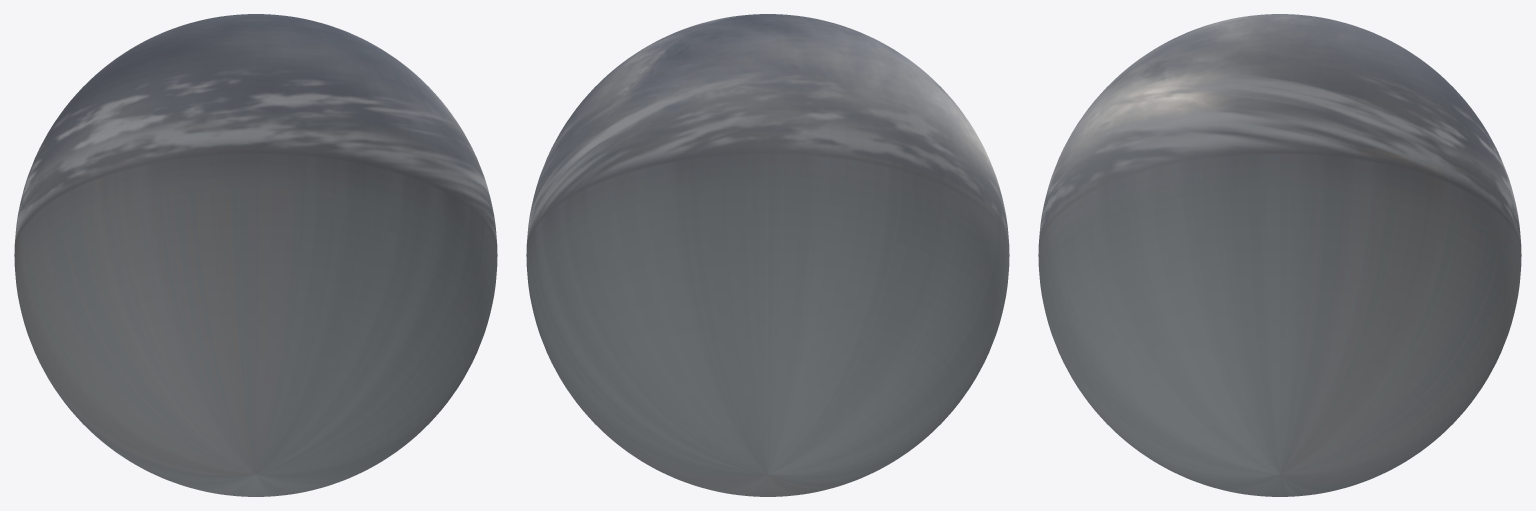
The model's file is sky_dome_v5_overcast.glb.
3 renders of one model, left to right at view 1: azimuth 30°, elevation 25°; view 2: azimuth 150°, elevation 25°; view 3: azimuth 270°, elevation 25°, orthographic.
Parts seen in each view (by area): view 1: sky_dome_v5_overcast; view 2: sky_dome_v5_overcast; view 3: sky_dome_v5_overcast.
Boxes of the visible parts, x1=… form: sky_dome_v5_overcast: x1=14, y1=14, x2=497, y2=496; sky_dome_v5_overcast: x1=526, y1=14, x2=1009, y2=496; sky_dome_v5_overcast: x1=1038, y1=14, x2=1521, y2=496.
Bounding box in the file's own units: 7600 × 7600 × 7600.
1 material, 1 textured.
